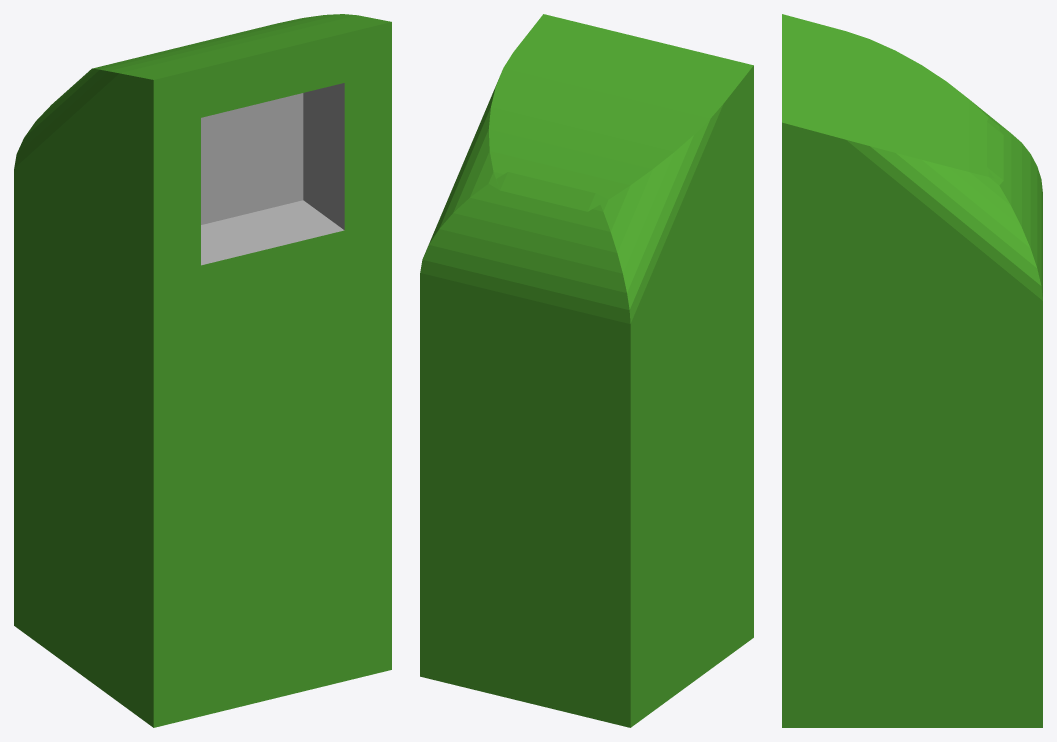
The model's file is tachoDeBasuraVerde.fbx.
3 renders of one model, left to right at view 1: azimuth 30°, elevation 25°; view 2: azimuth 150°, elevation 25°; view 3: azimuth 270°, elevation 25°, orthographic. The views are drawn at different scales.
Visible parts, largest first — view 1: Tacho de basura Verde; view 2: Tacho de basura Verde; view 3: Tacho de basura Verde.
Part boxes in pixels (box(x1,y1,x2,y2)): Tacho de basura Verde: box(14, 14, 391, 727); Tacho de basura Verde: box(420, 14, 753, 727); Tacho de basura Verde: box(782, 14, 1042, 727).
Bounding box in the file's own units: 299 × 777 × 303.
